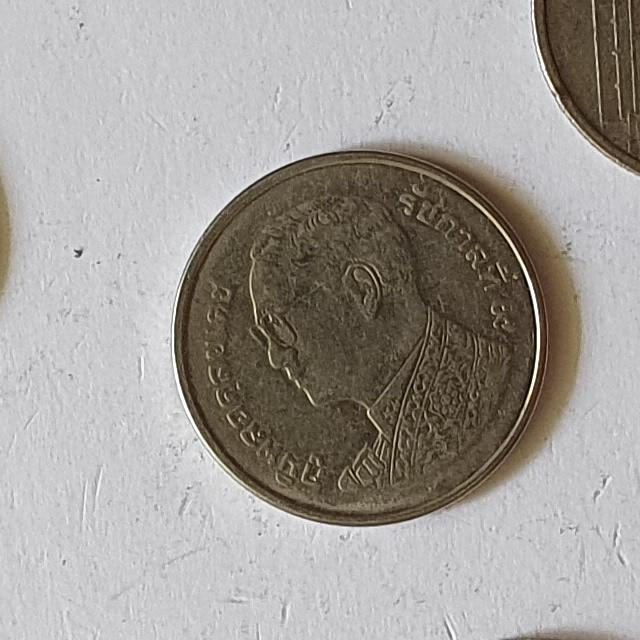1 Bath: (170, 142, 552, 536), (521, 1, 640, 179)
